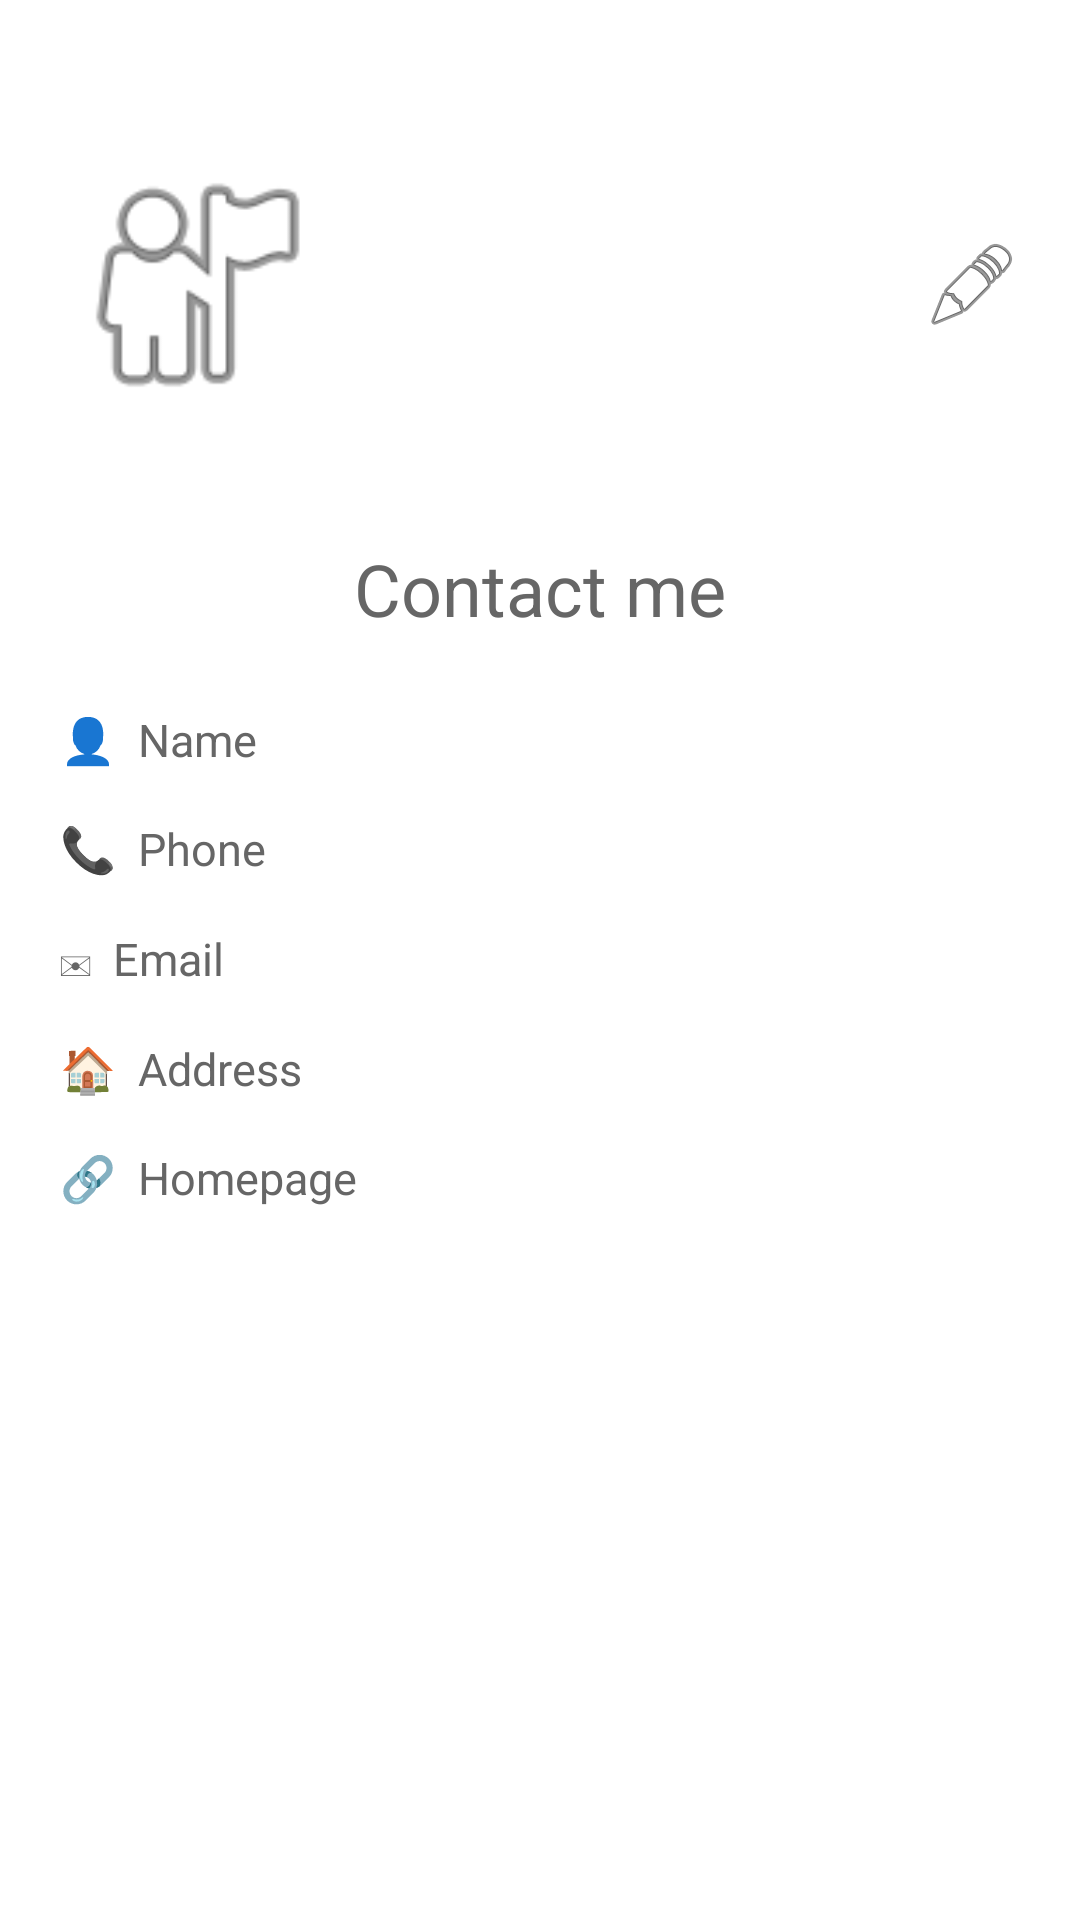

Where to tap for icons on this 1080px x 1920px app screen, as (x,y):
Edit: (971,284)
myplaces: (198,285)
